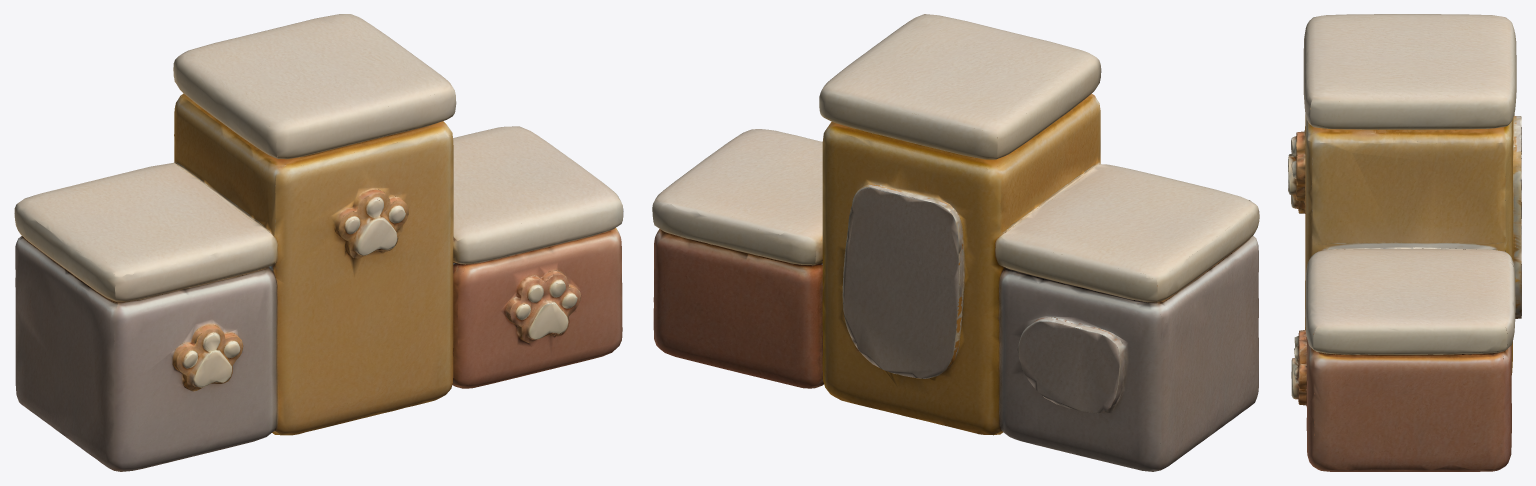
File: Stage_Podium.fbx
3 renders of one model, left to right at view 1: azimuth 30°, elevation 25°; view 2: azimuth 150°, elevation 25°; view 3: azimuth 270°, elevation 25°, orthographic. The views are drawn at different scales.
Visible parts, largest first — view 1: Prop_podium; view 2: Prop_podium; view 3: Prop_podium.
Part boxes in pixels (x1,y1,x2,y2): Prop_podium: [14, 14, 623, 471]; Prop_podium: [652, 14, 1259, 471]; Prop_podium: [1288, 14, 1521, 471].
Size of the model in its own units: 1.6 by 0.9418 by 0.6503.
1 material, 1 textured.
